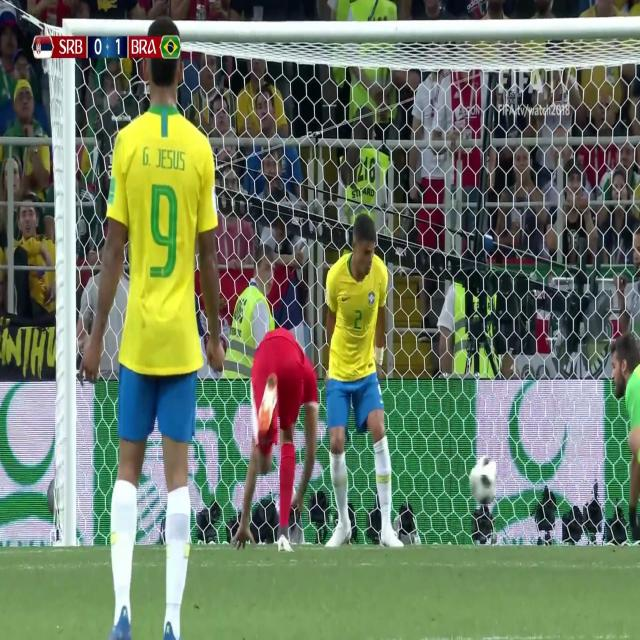ball: (462, 449, 505, 510)
player: (76, 25, 240, 632), (313, 204, 408, 558), (228, 277, 332, 554), (622, 338, 639, 543)
